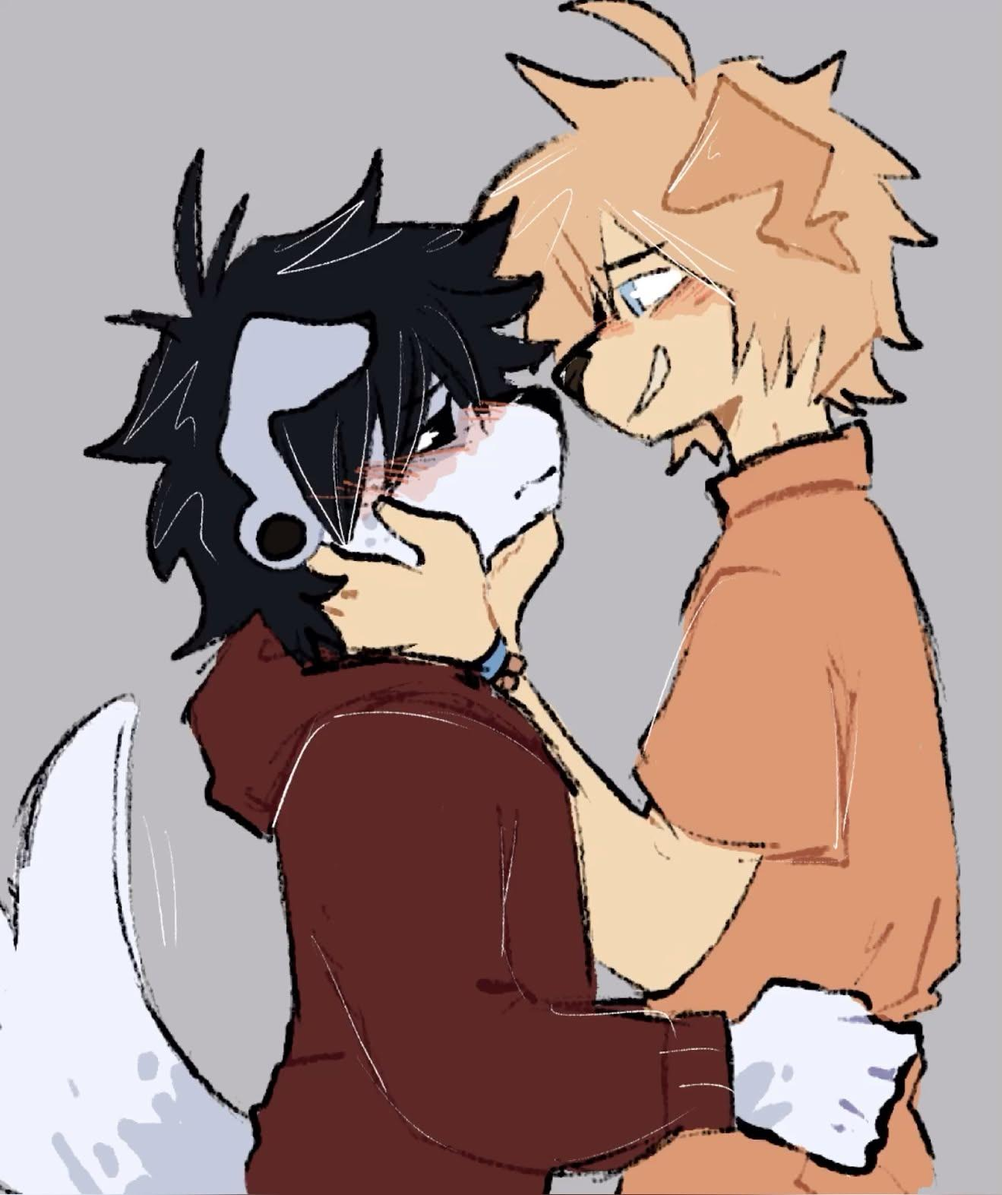adult_dog: (0, 144, 921, 1195), (309, 0, 968, 1195)
